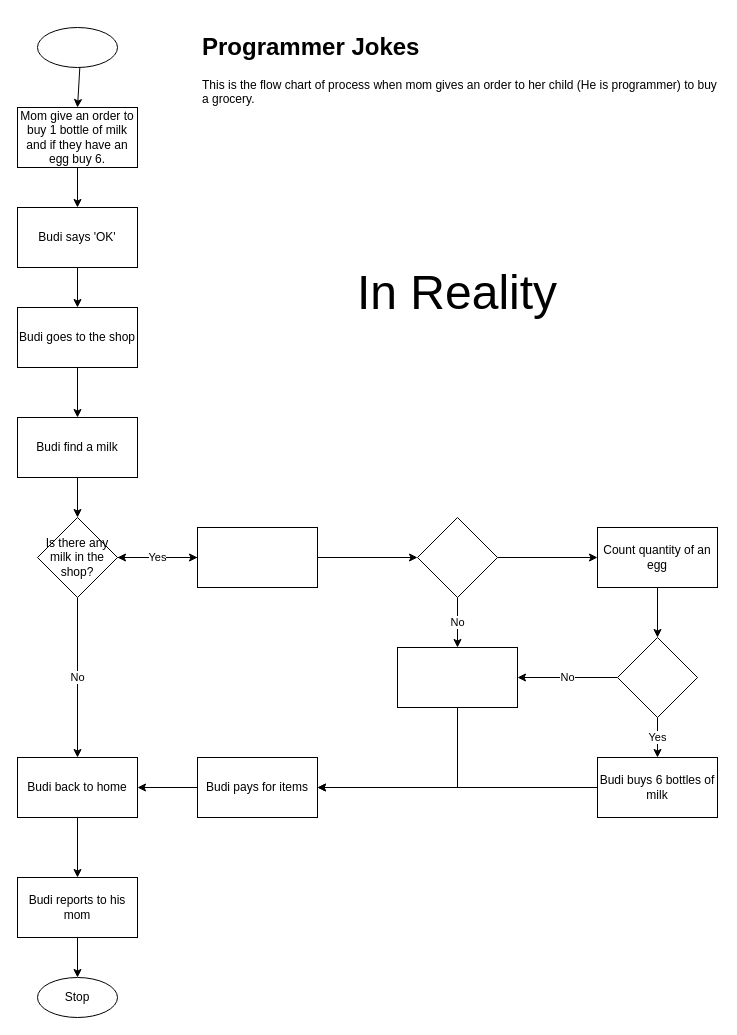
This 737x1035 diagram has some shape labels left out. The centre of each missing label's shape, as x and y in pixels:
Budi buy 1 bottle of milk: pixel 457 677
Budi find an egg: pixel 257 557
Does the shop has more than 6 eggs?: pixel 657 677
Is there any egg in the shop?: pixel 457 557
Start: pixel 77 47
